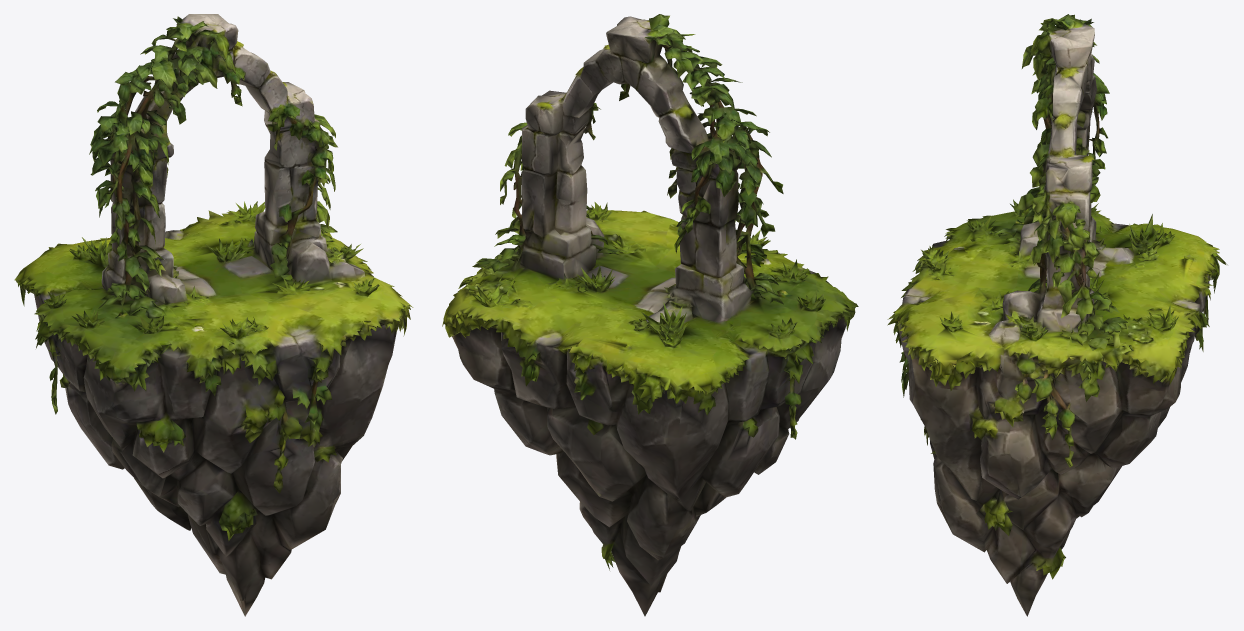
File: 04-orbit-islet-ruin.glb
3 renders of one model, left to right at view 1: azimuth 30°, elevation 25°; view 2: azimuth 150°, elevation 25°; view 3: azimuth 270°, elevation 25°, orthographic. The views are drawn at different scales.
Visible parts, largest first — view 1: tripo_node_a56dabb8-96f3-4dc8-8aaa-308668893bf9; view 2: tripo_node_a56dabb8-96f3-4dc8-8aaa-308668893bf9; view 3: tripo_node_a56dabb8-96f3-4dc8-8aaa-308668893bf9.
Boxes of the visible parts, <box> form: tripo_node_a56dabb8-96f3-4dc8-8aaa-308668893bf9: <box>14,14,413,616</box>; tripo_node_a56dabb8-96f3-4dc8-8aaa-308668893bf9: <box>442,14,858,616</box>; tripo_node_a56dabb8-96f3-4dc8-8aaa-308668893bf9: <box>887,14,1227,616</box>.
Bounding box in the file's own units: 0.5532 × 0.977 × 0.5198.
Materials: 1 (1 with a texture image).
